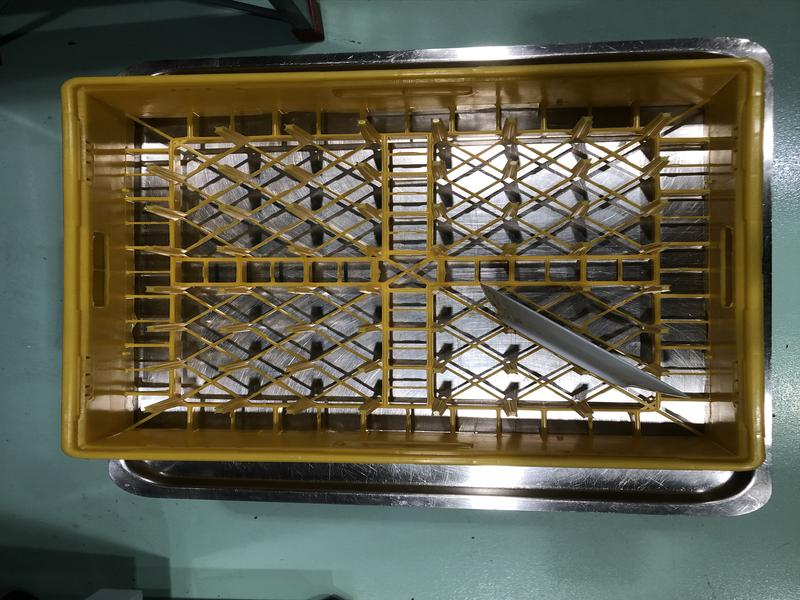Inclined_dish: (480, 284, 686, 399)
